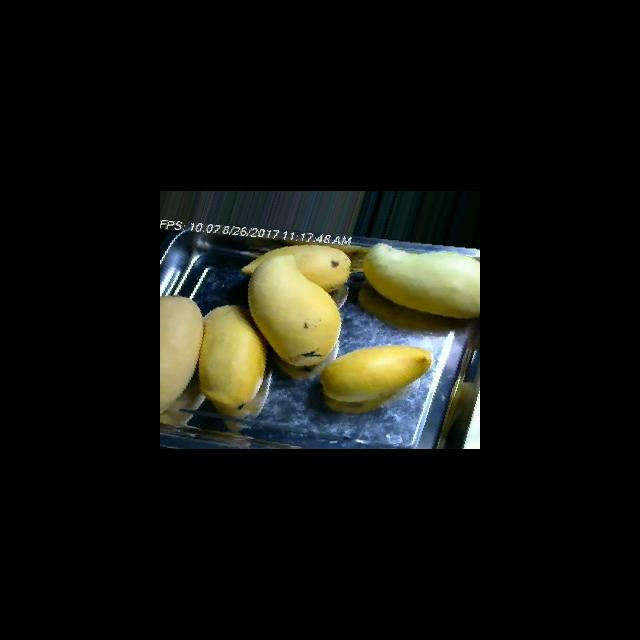Mango: (247, 253, 341, 367), (362, 242, 479, 319), (198, 304, 267, 410), (319, 345, 432, 407), (241, 245, 353, 292), (160, 294, 203, 416)
